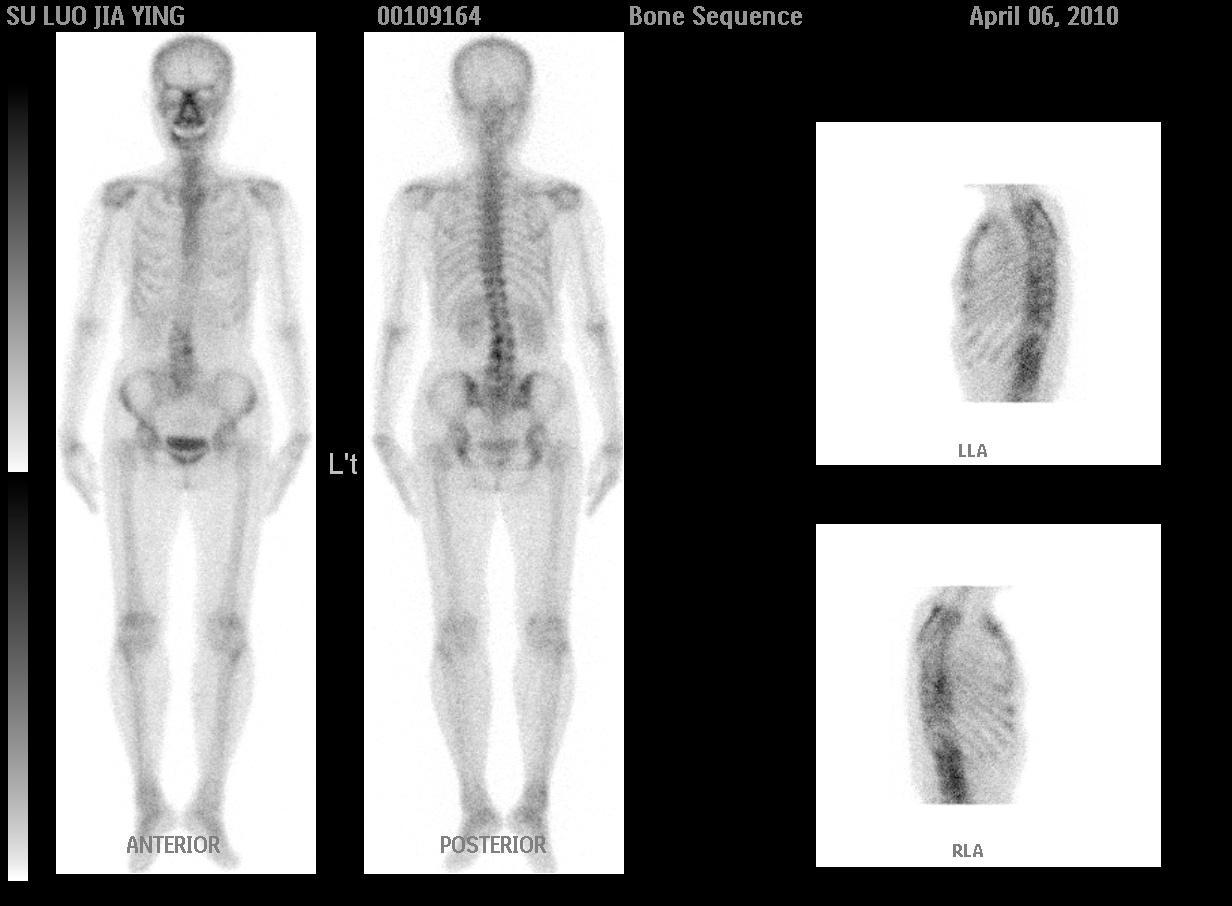person: (55, 33, 625, 873)
